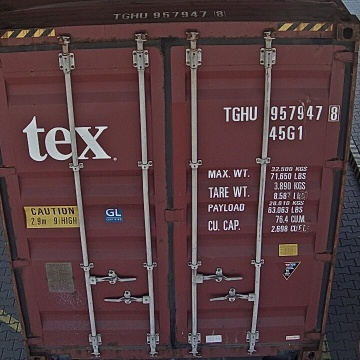serial_id: (223, 105, 340, 121)
